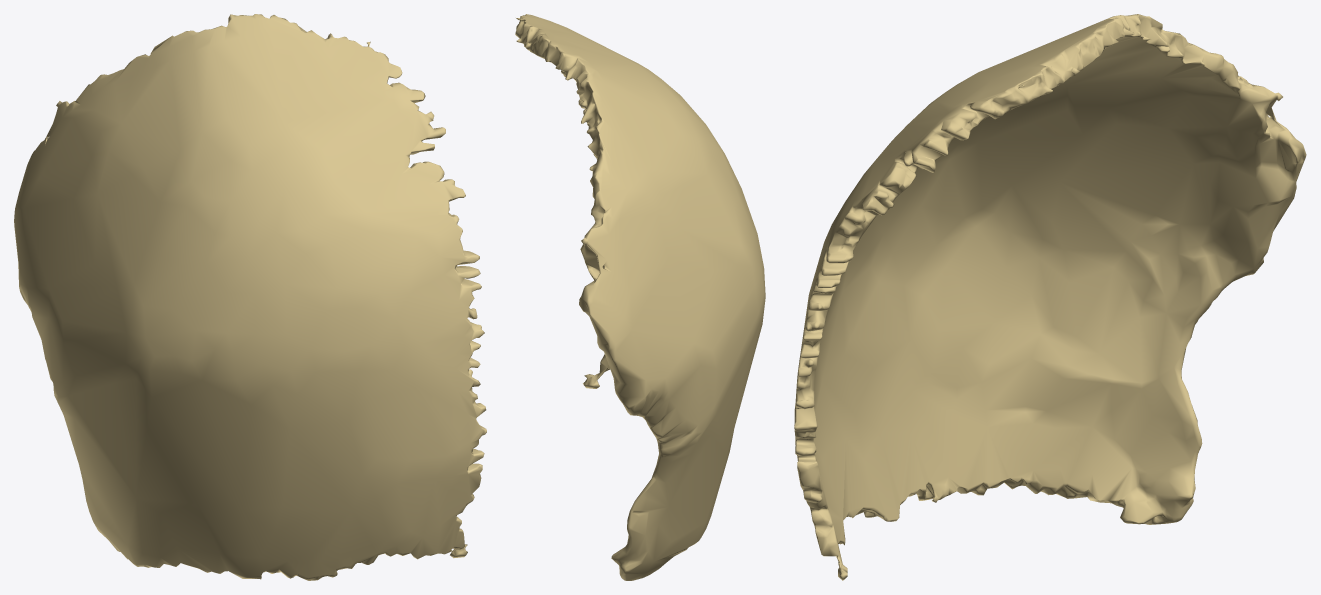
3 views of the same model, side by side, from view 1: azimuth 30°, elevation 25°; view 2: azimuth 150°, elevation 25°; view 3: azimuth 270°, elevation 25° (orthographic). The views are drawn at different scales.
Parts seen in each view (by area): view 1: 右侧顶骨; view 2: 右侧顶骨; view 3: 右侧顶骨.
Boxes of the visible parts, <box> form: 右侧顶骨: <box>14,14,486,580</box>; 右侧顶骨: <box>515,14,765,580</box>; 右侧顶骨: <box>794,14,1306,580</box>.
Bounding box in the file's own units: 0.1179 × 0.2053 × 0.1704.
